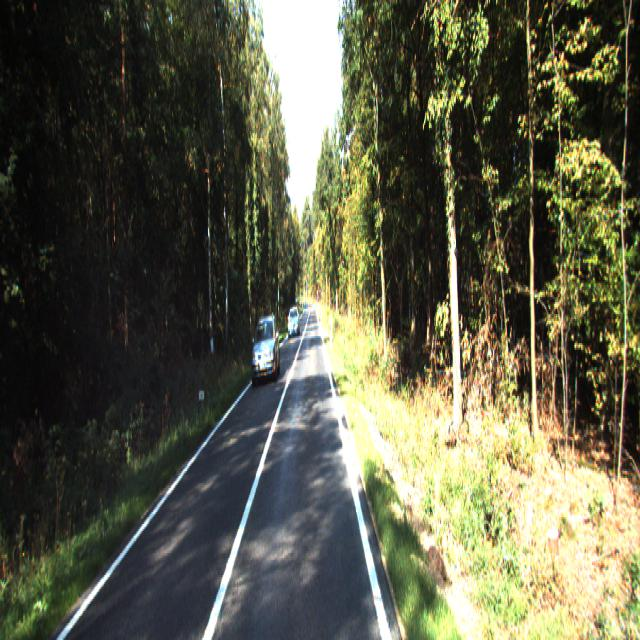Car: (249, 312, 281, 388), (287, 309, 300, 340)
